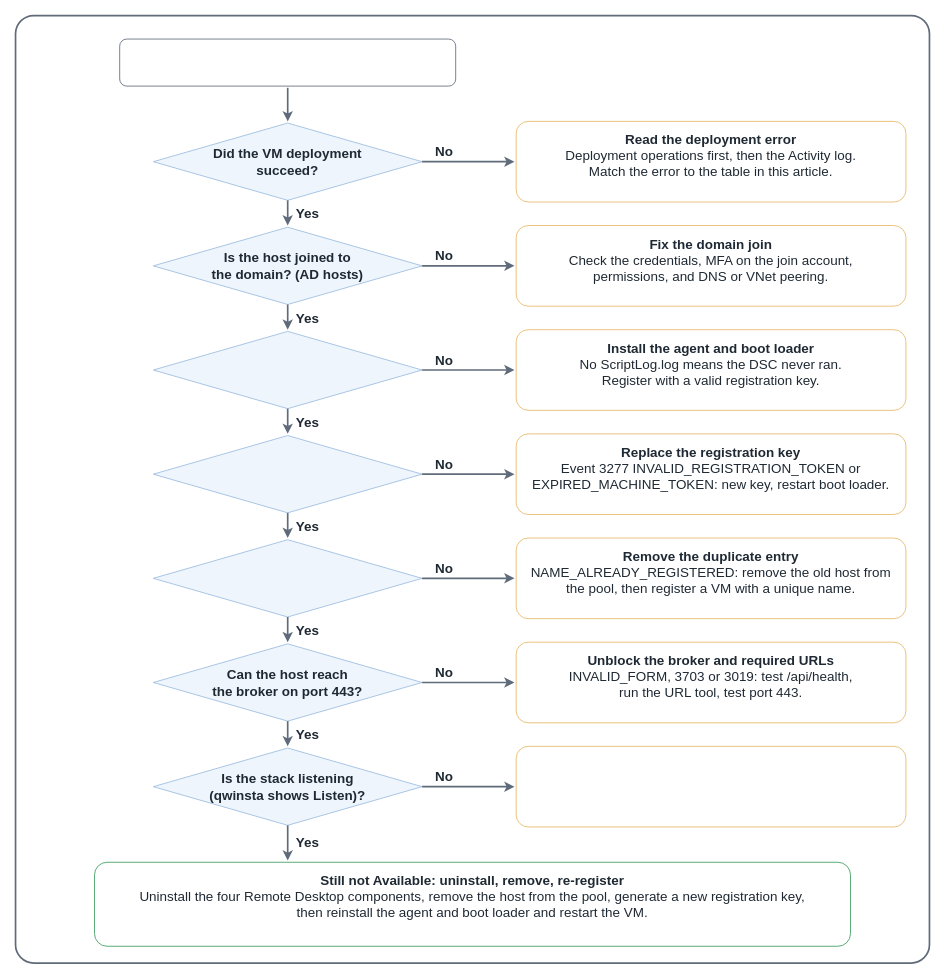
This 944x978 diagram has some shape labels left out. Grey dashed boxes stand in for pictures. Each missing label, with the box of its shape:
Are the agent and boot loader installed?: (152, 331, 422, 409)
Host missing from the host pool, or it never becomes Available: (119, 38, 456, 86)
Is the registration token valid?: (152, 435, 422, 513)
Is the VM name unique in the host pool?: (152, 539, 422, 617)
Repair the side-by-side stack Reinstall the stack; check DisableRegistryTools.: (515, 746, 906, 827)
